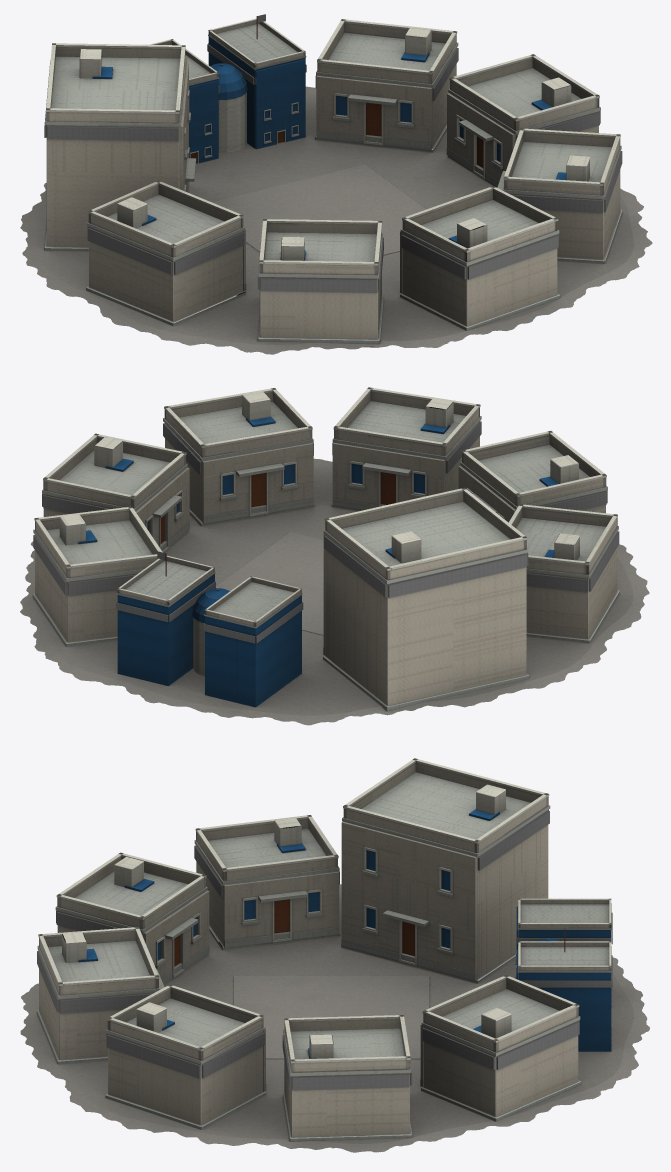
Rendered from modern-town-small-a-indic.glb.
3 views of the same model, one above another, from view 1: azimuth 30°, elevation 25°; view 2: azimuth 150°, elevation 25°; view 3: azimuth 270°, elevation 25° (orthographic).
Parts seen in each view (by area): view 1: LOD0; view 2: LOD0; view 3: LOD0.
Boxes of the visible parts, <box> form: LOD0: <box>20,14,652,354</box>; LOD0: <box>20,387,649,725</box>; LOD0: <box>20,758,649,1152</box>.
Size of what is drawn, in the model's own units: 3.98 by 1.04 by 3.95.
3 materials, 3 textured.
